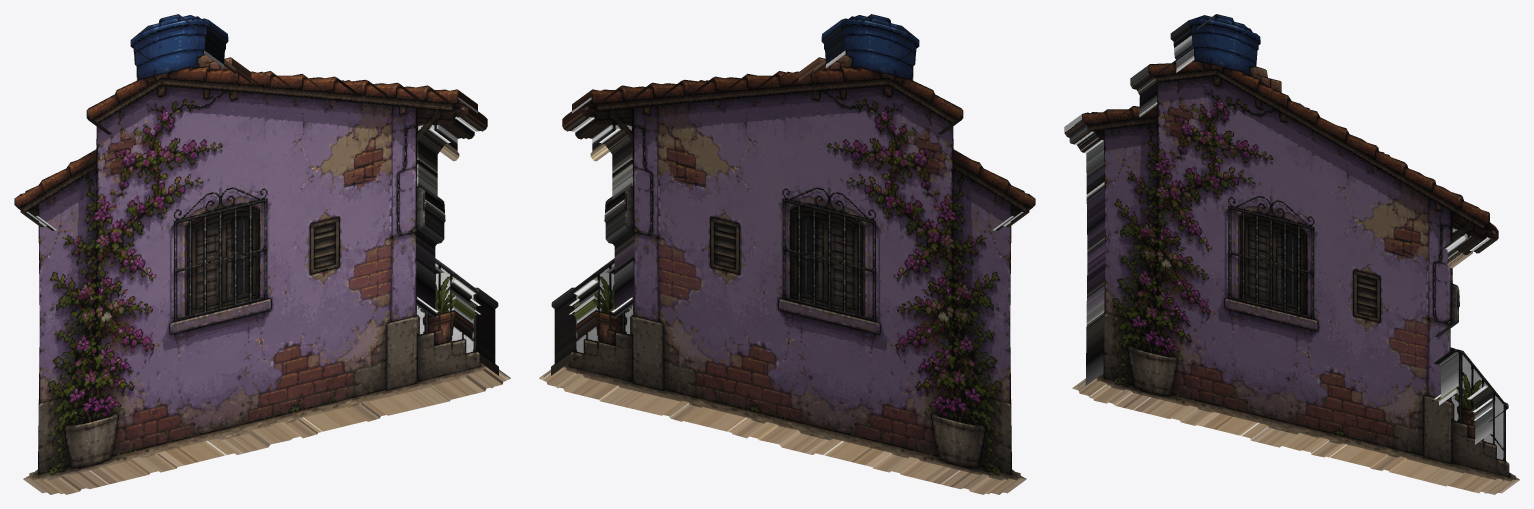
Rendered from house_09_side.glb.
The picture shows the model from 3 angles, left to right: view 1: azimuth 30°, elevation 25°; view 2: azimuth 150°, elevation 25°; view 3: azimuth 330°, elevation 25°; orthographic projection. The views are drawn at different scales.
Visible parts, largest first — view 1: world; view 2: world; view 3: world.
Part boxes in pixels (<box>): world: <box>14,14,510,494</box>; world: <box>539,14,1035,494</box>; world: <box>1064,14,1519,494</box>.
Bounding box in the file's own units: 7.93 × 6.94 × 0.556.
1 material, 1 textured.
